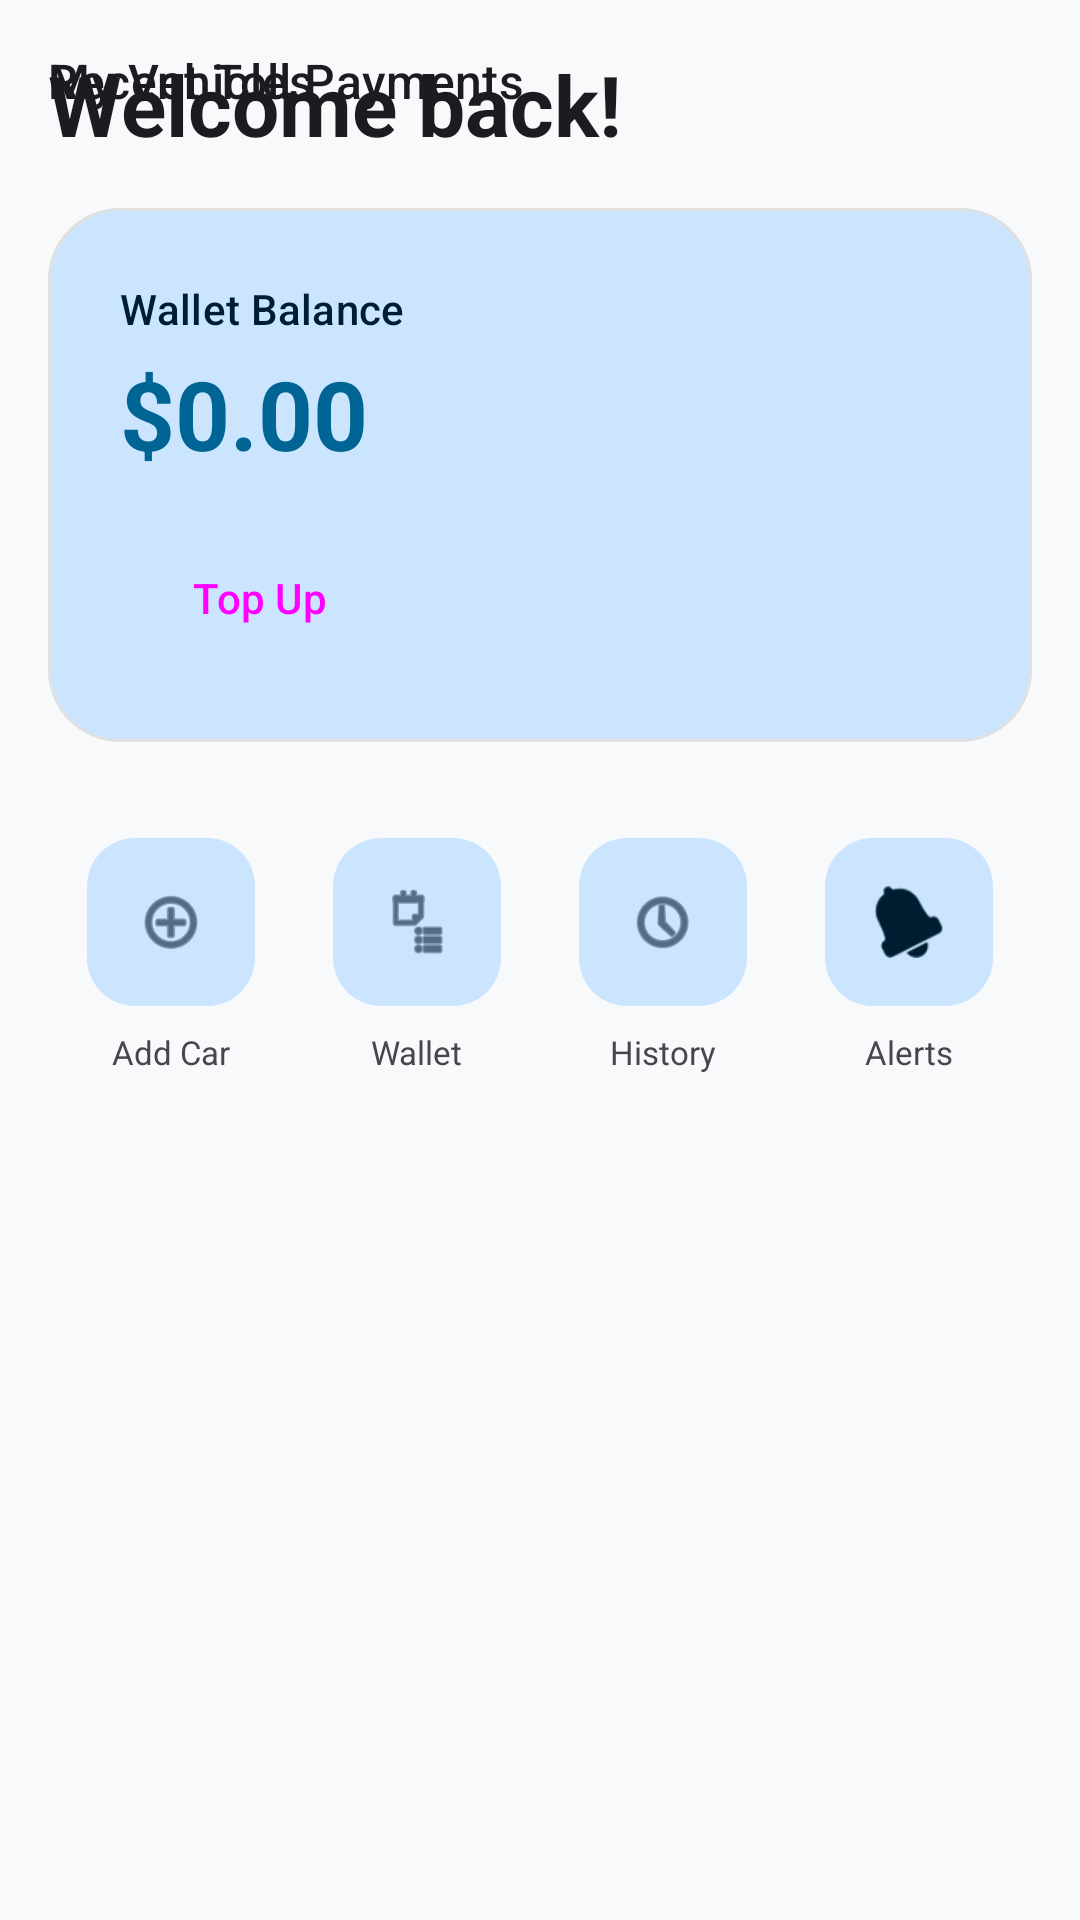

Icon bounding boxes for this 1080x1920 phone screenshot, format (x1, y1, x2, y2):
agenda: (333, 838, 501, 1006)
